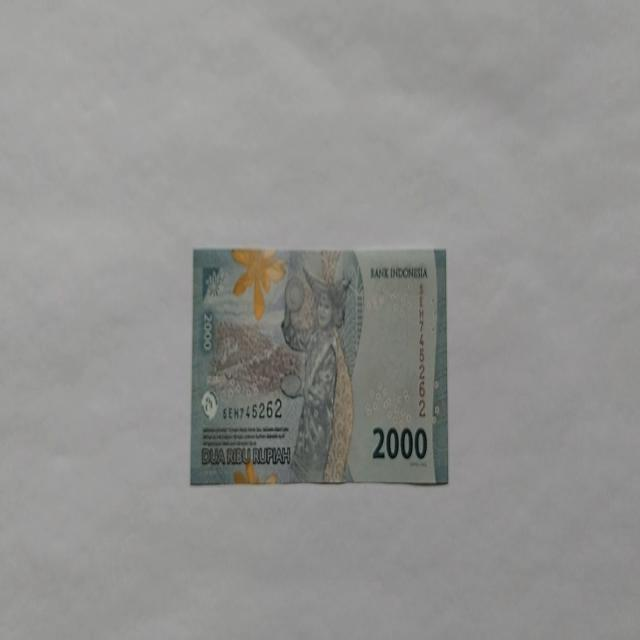dua ribu rupiah: (190, 246, 448, 487), (279, 256, 357, 484)
